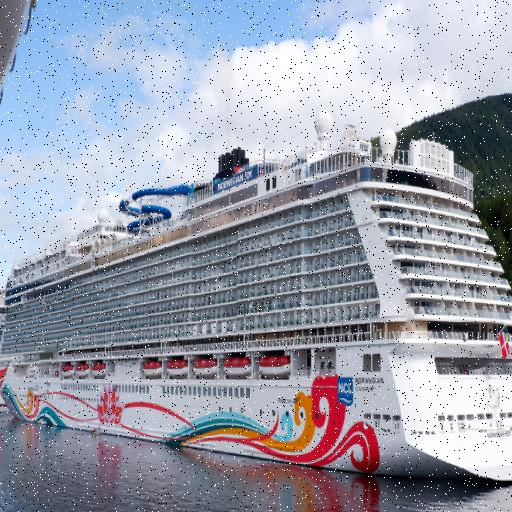cruises: (1, 108, 512, 493), (1, 285, 16, 409)
